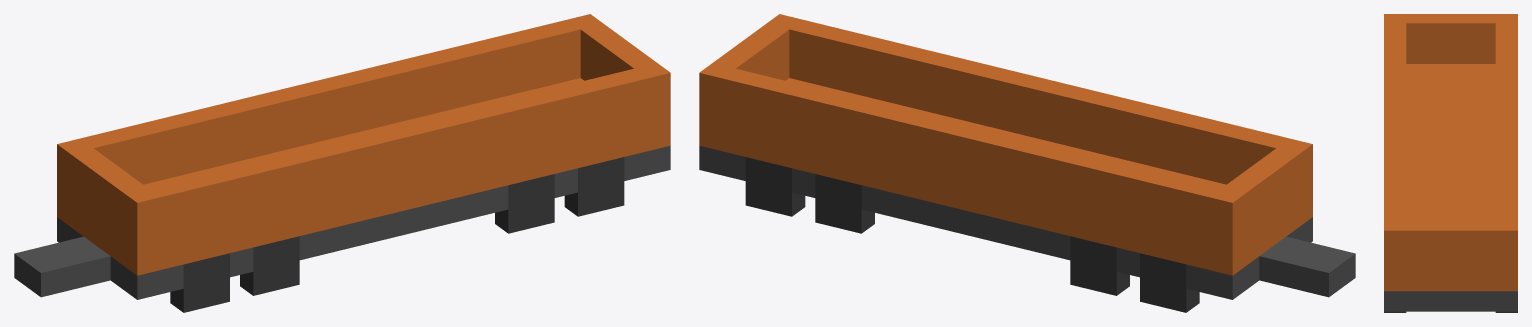
Rendered from train-trailer-v8-orange.gltf.
3 renders of one model, left to right at view 1: azimuth 30°, elevation 25°; view 2: azimuth 150°, elevation 25°; view 3: azimuth 270°, elevation 25°, orthographic. The views are drawn at different scales.
Visible parts, largest first — view 1: model, wheels; view 2: model, wheels; view 3: model.
Boxes of the visible parts, left/top/right/bottom form: model: left=14, top=14, right=670, bottom=299; wheels: left=170, top=157, right=624, bottom=312; model: left=699, top=14, right=1355, bottom=299; wheels: left=745, top=157, right=1199, bottom=312; model: left=1384, top=14, right=1517, bottom=311.
Bounding box in the file's own units: 2.6 × 0.5 × 0.6.
Materials: 2 (2 with a texture image).
